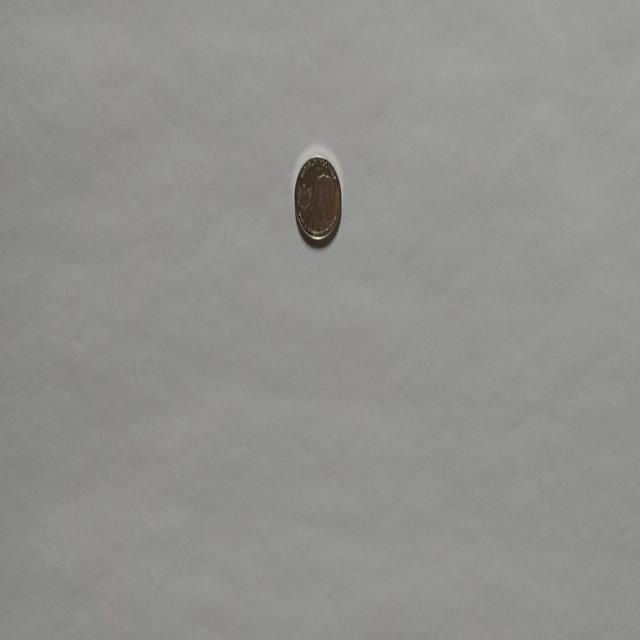seratus rupiah: (294, 154, 342, 246)
